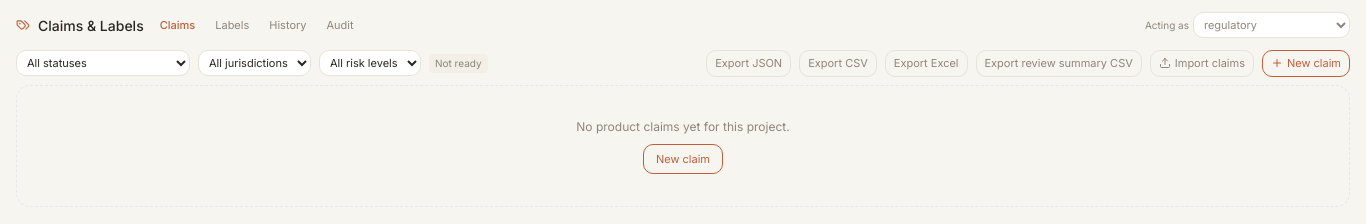
Test: ClaimsLabelsPanel — empty states › shows the empty claims state and switches to the empty labels state
Expected: the text "No product claims yet for this project." is shown, x1=576 y1=118 x2=790 y2=134
Click the button "Labels" at point(232, 25), box x1=207 y1=13 x2=257 y2=37
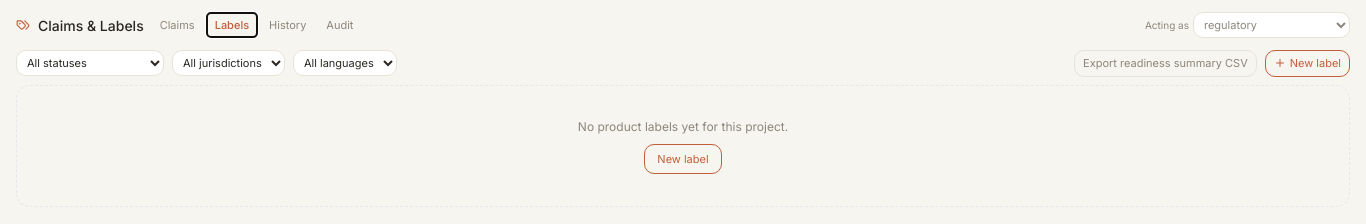
Expected: the text "No product labels yet for this project." is shown, x1=578 y1=118 x2=788 y2=134
